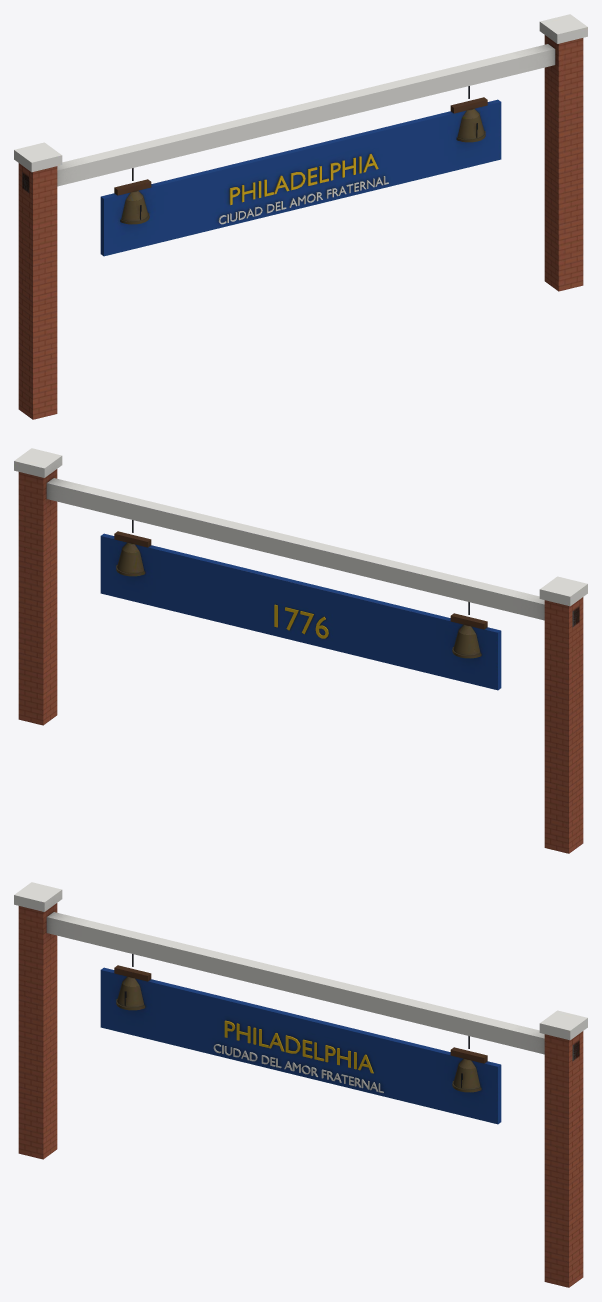
The model's file is arco_philly.glb.
The picture shows the model from 3 angles, top to bottom: view 1: azimuth 30°, elevation 25°; view 2: azimuth 150°, elevation 25°; view 3: azimuth 330°, elevation 25°; orthographic projection.
Parts seen in each view (by area): view 1: arco_philly; view 2: arco_philly; view 3: arco_philly.
Part boxes in pixels (x1,y1,x2,y2): arco_philly: [14, 14, 587, 419]; arco_philly: [14, 448, 587, 853]; arco_philly: [14, 882, 587, 1287].
Size of the model in its own units: 18.2 by 8.1 by 1.
Materials: 1 (1 with a texture image).
